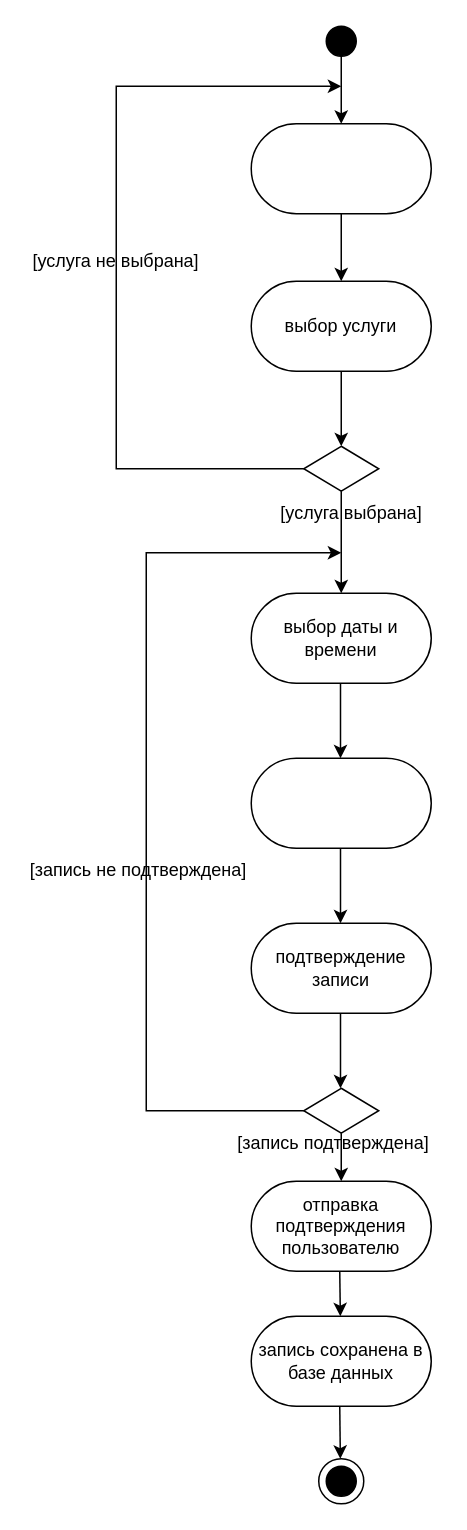
Some shapes in this 467 by 1530 pixel diagram are drawn without their labels. The centre of each missing label's shape, as x and y in pixels:
"просмотр услуг" belongs at (340,168).
"регистрация/авторизация" belongs at (340,802).
